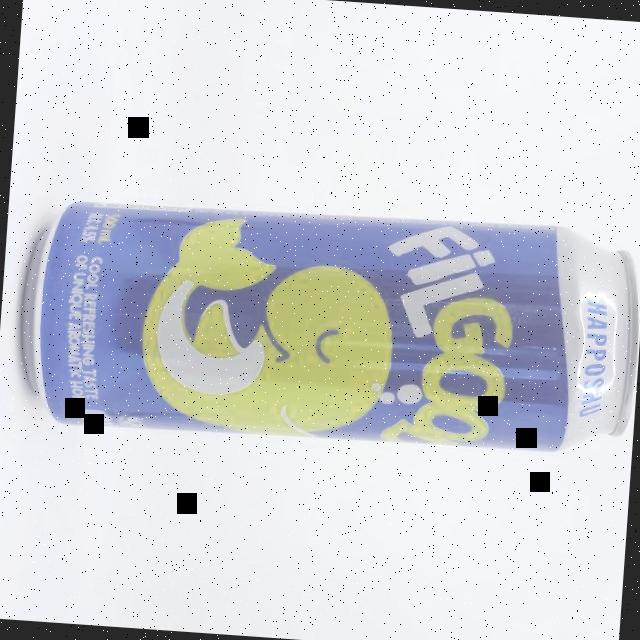can: (13, 189, 640, 464)
